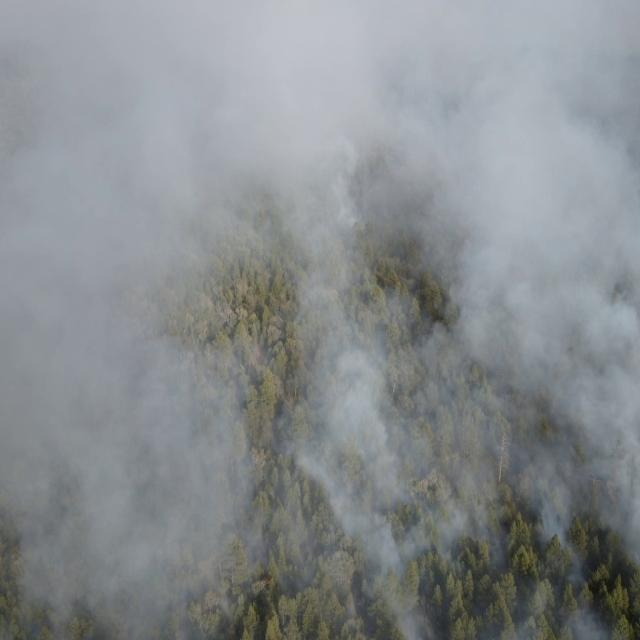fire: (262, 577, 276, 588)
smoke: (0, 0, 640, 640)
